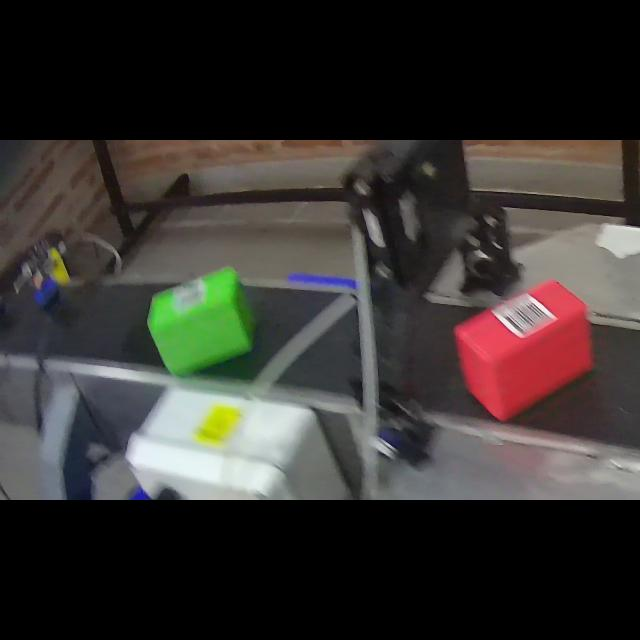greenBox: (141, 262, 257, 380)
redBox: (452, 278, 590, 424)
